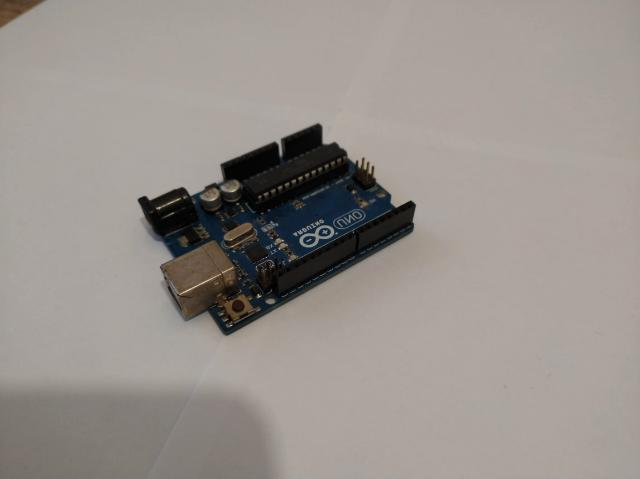arduino: (138, 123, 416, 334)
